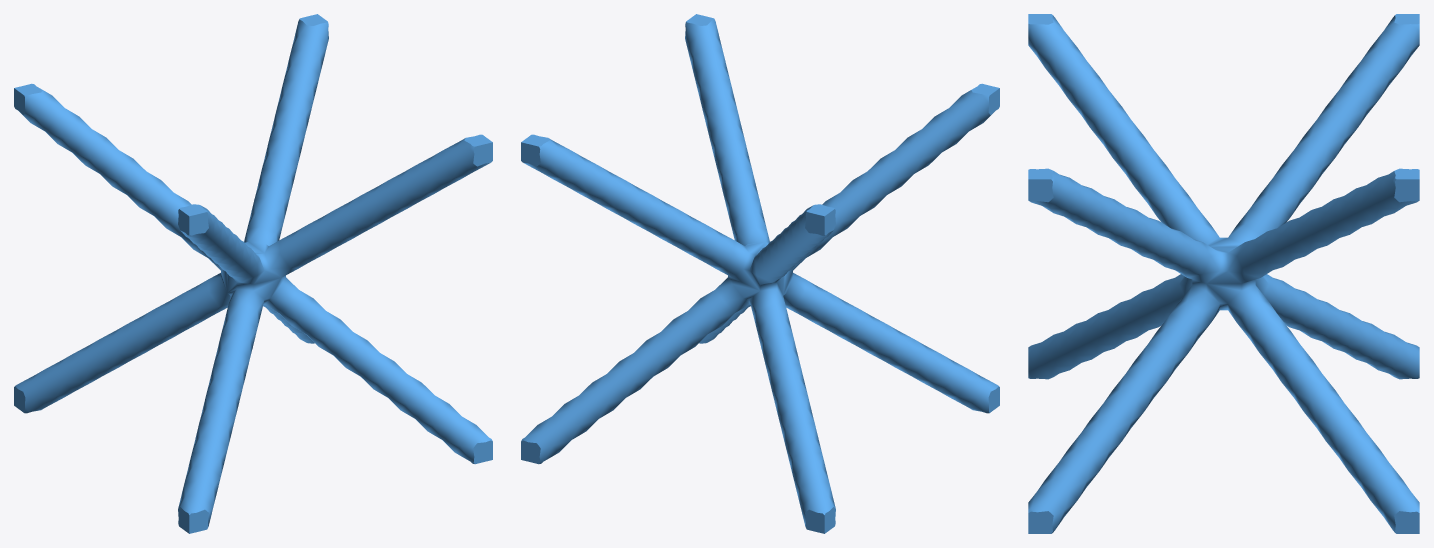
Rendered from Variation1.glb.
The picture shows the model from 3 angles, left to right: view 1: azimuth 30°, elevation 25°; view 2: azimuth 150°, elevation 25°; view 3: azimuth 270°, elevation 25°; orthographic projection. The views are drawn at different scales.
Visible parts, largest first — view 1: Mesh_0.001; view 2: Mesh_0.001; view 3: Mesh_0.001.
Boxes of the visible parts, left/top/right/bottom form: Mesh_0.001: left=14, top=14, right=492, bottom=533; Mesh_0.001: left=521, top=14, right=999, bottom=533; Mesh_0.001: left=1028, top=14, right=1419, bottom=533.
Bounding box in the file's own units: 1 × 1 × 1.
